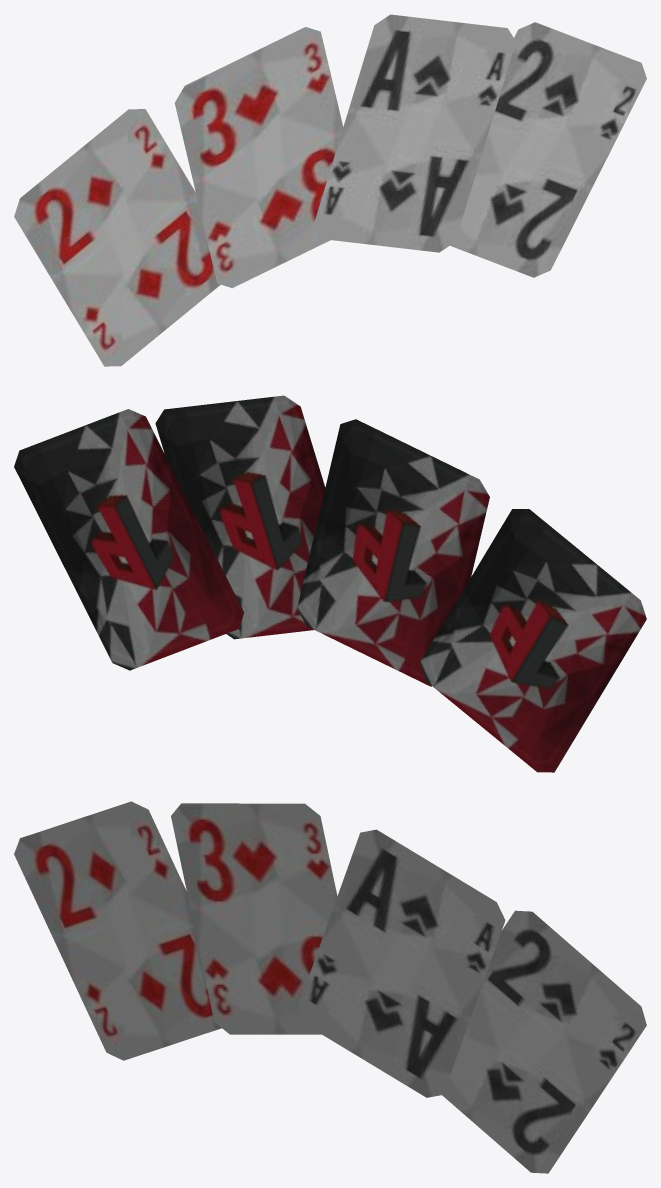
Rendered from 棋牌室.gltf.
The picture shows the model from 3 angles, top to bottom: view 1: azimuth 30°, elevation 25°; view 2: azimuth 150°, elevation 25°; view 3: azimuth 330°, elevation 25°; orthographic projection. The views are drawn at different scales.
Visible parts, largest first — view 1: node_PlayingCards_ASpades_-122240, node_PlayingCards_2Diamond_-121982, node_PlayingCards_3Heart_-122162, node_PlayingCards_2Spades_-122072; view 2: node_PlayingCards_2Spades_-122072, node_PlayingCards_2Diamond_-121982, node_PlayingCards_3Heart_-122162, node_PlayingCards_ASpades_-122240; view 3: node_PlayingCards_ASpades_-122240, node_PlayingCards_2Diamond_-121982, node_PlayingCards_2Spades_-122072, node_PlayingCards_3Heart_-122162.
Boxes of the visible parts, x1=… form: node_PlayingCards_ASpades_-122240: x1=313, y1=14, x2=515, y2=252; node_PlayingCards_2Diamond_-121982: x1=14, y1=109, x2=220, y2=366; node_PlayingCards_3Heart_-122162: x1=174, y1=27, x2=343, y2=288; node_PlayingCards_2Spades_-122072: x1=450, y1=22, x2=646, y2=277; node_PlayingCards_2Spades_-122072: x1=14, y1=409, x2=244, y2=670; node_PlayingCards_2Diamond_-121982: x1=420, y1=509, x2=646, y2=772; node_PlayingCards_3Heart_-122162: x1=297, y1=419, x2=489, y2=686; node_PlayingCards_ASpades_-122240: x1=155, y1=395, x2=325, y2=639; node_PlayingCards_ASpades_-122240: x1=298, y1=829, x2=505, y2=1097; node_PlayingCards_2Diamond_-121982: x1=14, y1=801, x2=221, y2=1060; node_PlayingCards_2Spades_-122072: x1=442, y1=910, x2=646, y2=1173; node_PlayingCards_3Heart_-122162: x1=171, y1=803, x2=337, y2=1034.
Bounding box in the file's own units: 0.2647 × 0.1226 × 0.00815.
